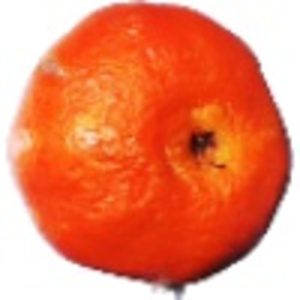tangerina: (6, 1, 300, 300)
